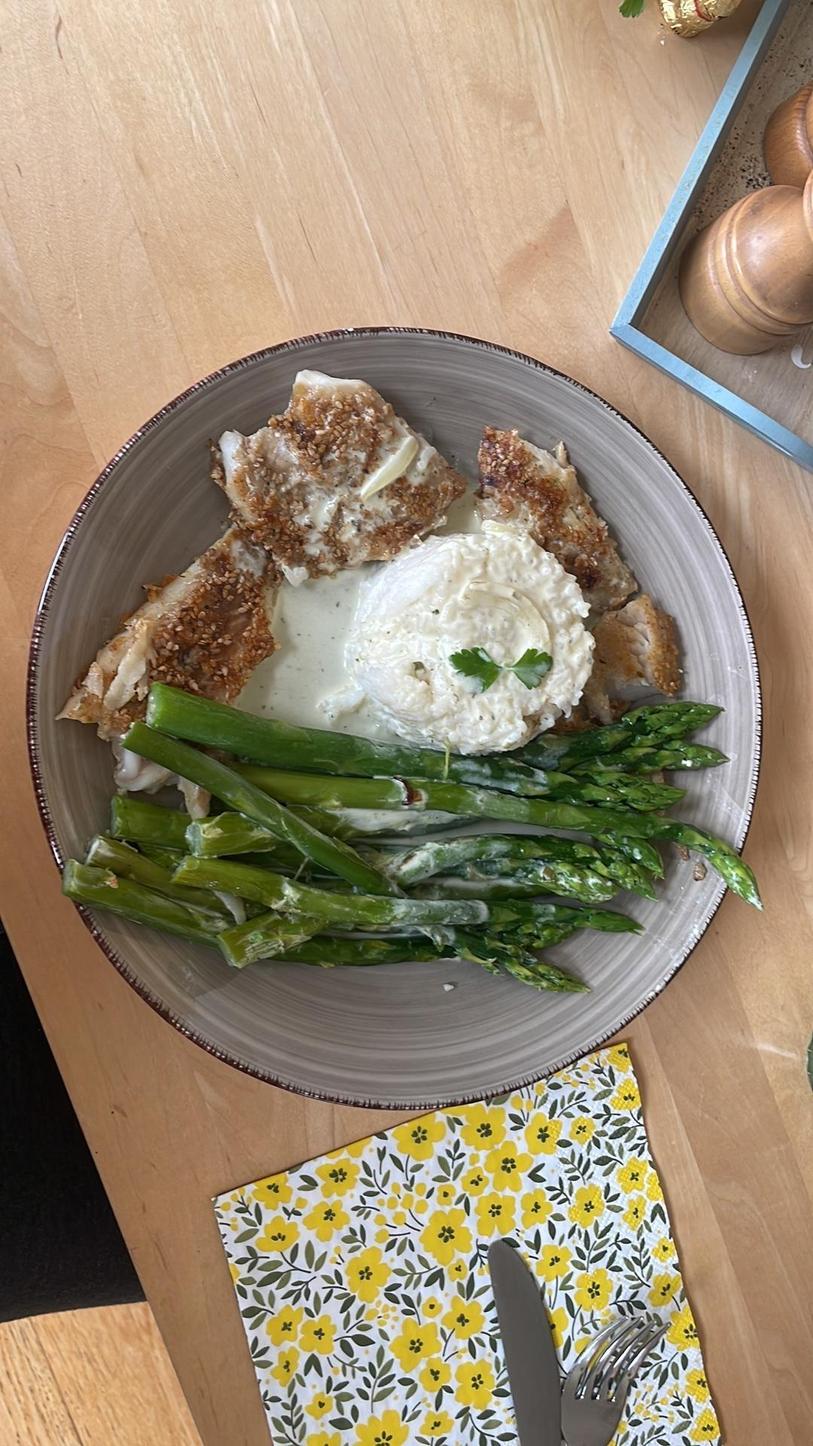asparagus: (129, 723, 767, 913), (64, 861, 617, 991), (58, 837, 667, 915), (149, 682, 565, 794), (114, 796, 669, 879), (164, 856, 639, 934), (130, 758, 685, 811), (569, 703, 738, 779)
